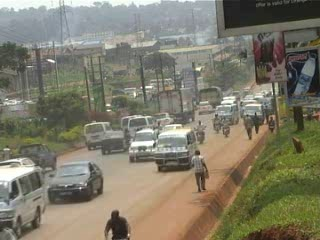Car: (46, 160, 107, 206), (126, 128, 164, 163), (97, 128, 131, 155), (149, 112, 177, 127), (160, 120, 187, 135), (196, 99, 215, 118)
Motorcycle: (193, 118, 208, 147), (220, 117, 231, 137), (212, 109, 221, 132)
